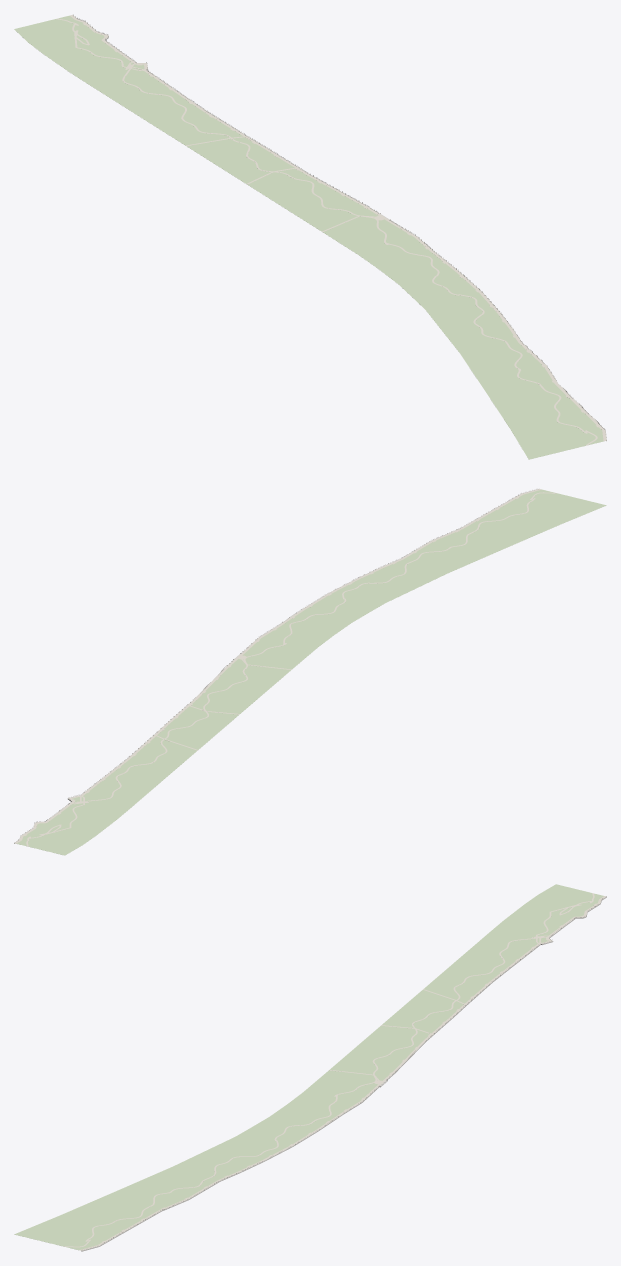
The model's file is riverside.glb.
3 views of the same model, one above another, from view 1: azimuth 30°, elevation 25°; view 2: azimuth 150°, elevation 25°; view 3: azimuth 330°, elevation 25° (orthographic). The views are drawn at different scales.
Parts seen in each view (by area): view 1: riverside_lawn, riverside_paths, riverside_bank; view 2: riverside_lawn, riverside_paths, riverside_bank; view 3: riverside_lawn, riverside_paths, riverside_bank.
Part boxes in pixels (x1,y1,x2,y2): riverside_lawn: (14, 15, 603, 459); riverside_paths: (56, 15, 606, 445); riverside_bank: (72, 14, 606, 441); riverside_lawn: (17, 489, 606, 855); riverside_paths: (14, 489, 556, 846); riverside_bank: (14, 488, 539, 843); riverside_lawn: (14, 884, 603, 1250); riverside_paths: (63, 893, 605, 1250); riverside_bank: (81, 896, 606, 1251).
Bounding box in the file's own units: 220 × 2.66 × 1500.
